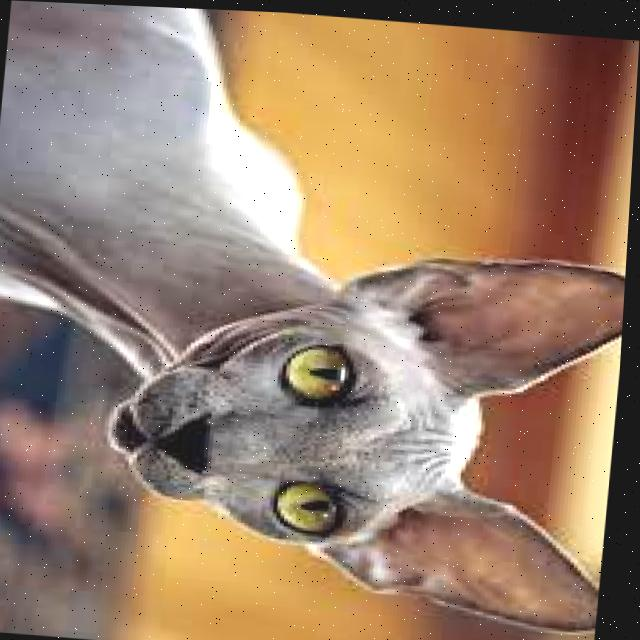Sphynx: (0, 0, 640, 635)
